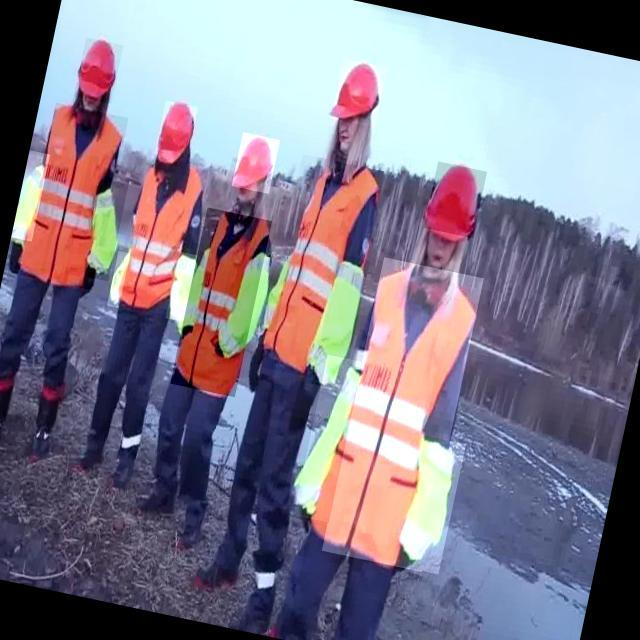Helmet: (424, 161, 487, 238), (330, 58, 387, 127), (73, 37, 123, 104), (152, 101, 198, 171), (231, 132, 280, 194)
Safety Vest: (321, 257, 483, 572), (257, 155, 384, 385), (19, 102, 128, 290), (170, 207, 272, 397), (115, 154, 207, 317), (293, 354, 362, 522), (397, 435, 466, 574), (311, 254, 370, 390), (221, 252, 274, 360), (84, 176, 129, 281), (11, 150, 50, 241), (183, 240, 213, 332), (259, 255, 291, 333), (165, 252, 197, 322), (107, 251, 130, 308)
